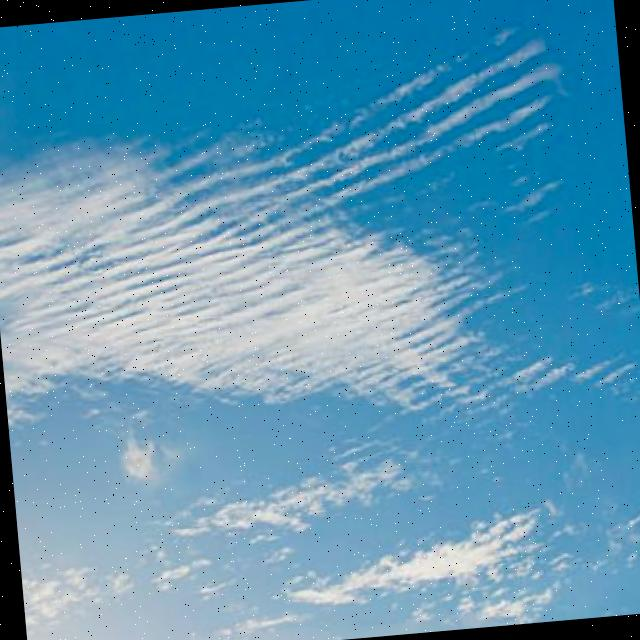Cs: (1, 47, 640, 517)
